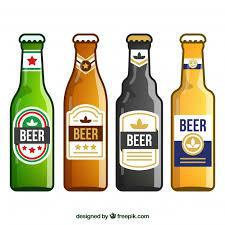beer: (9, 33, 213, 191)
